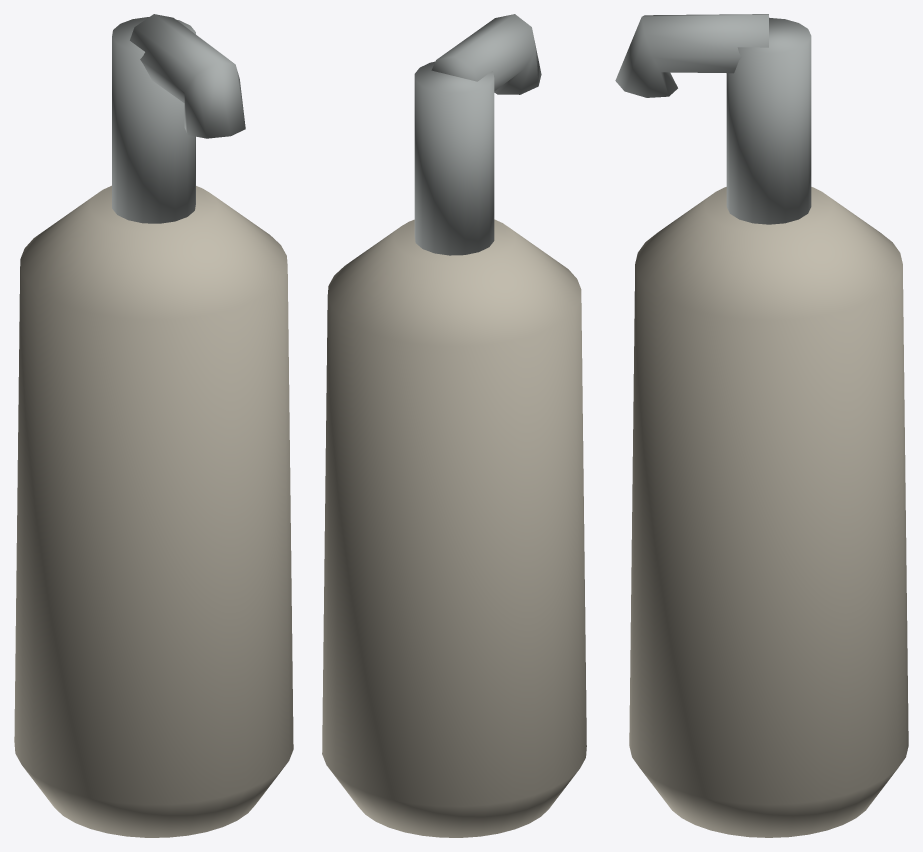
Rendered from shared.soap.gltf.
3 renders of one model, left to right at view 1: azimuth 30°, elevation 25°; view 2: azimuth 150°, elevation 25°; view 3: azimuth 270°, elevation 25°, orthographic. The views are drawn at different scales.
Parts seen in each view (by area): view 1: shared.soap.bottle; view 2: shared.soap.bottle; view 3: shared.soap.bottle.
Boxes of the visible parts, x1,y1,x2,y2 form: shared.soap.bottle: (14,14,293,837); shared.soap.bottle: (322,14,586,837); shared.soap.bottle: (615,14,908,837).
Size of the model in its own units: 0.0528 by 0.1624 by 0.0555.
